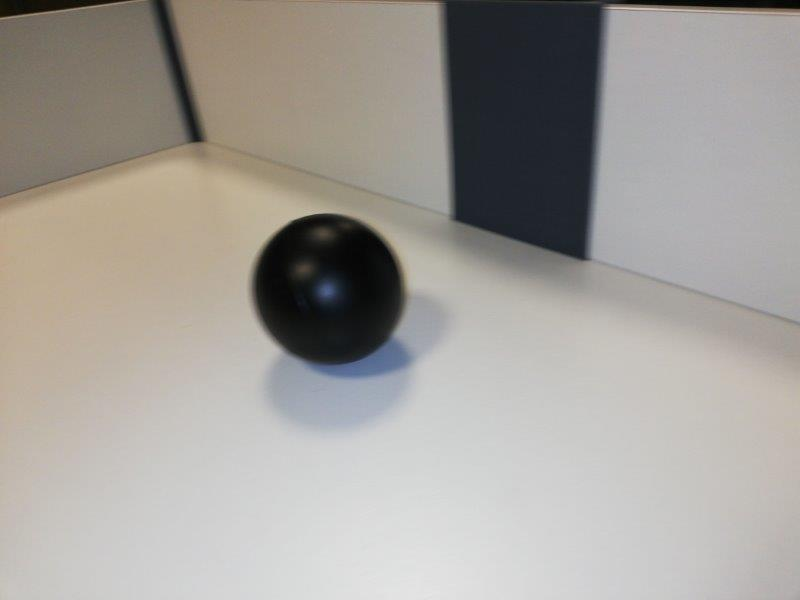nera: (249, 214, 407, 367)
